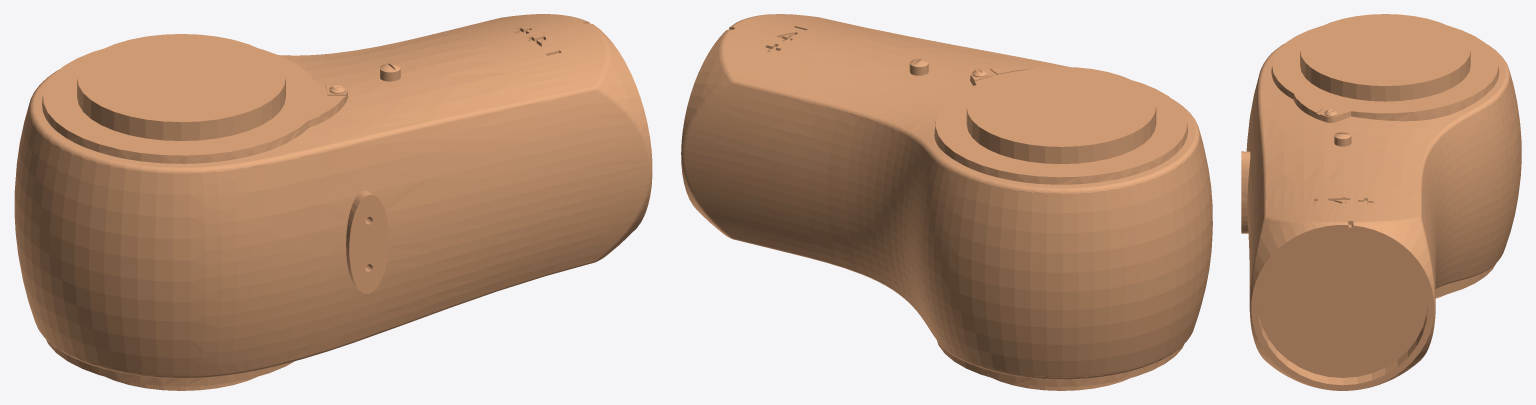
3 views of the same model, side by side, from view 1: azimuth 30°, elevation 25°; view 2: azimuth 150°, elevation 25°; view 3: azimuth 270°, elevation 25° (orthographic). The views are drawn at different scales.
Visible parts, largest first — view 1: /Link3/Link3_001-mesh/0; view 2: /Link3/Link3_001-mesh/0; view 3: /Link3/Link3_001-mesh/0.
Boxes of the visible parts, <box> form: /Link3/Link3_001-mesh/0: <box>14,14,652,390</box>; /Link3/Link3_001-mesh/0: <box>681,14,1212,390</box>; /Link3/Link3_001-mesh/0: <box>1241,14,1521,390</box>.
Bounding box in the file's own units: 0.2949 × 0.142 × 0.1645.
